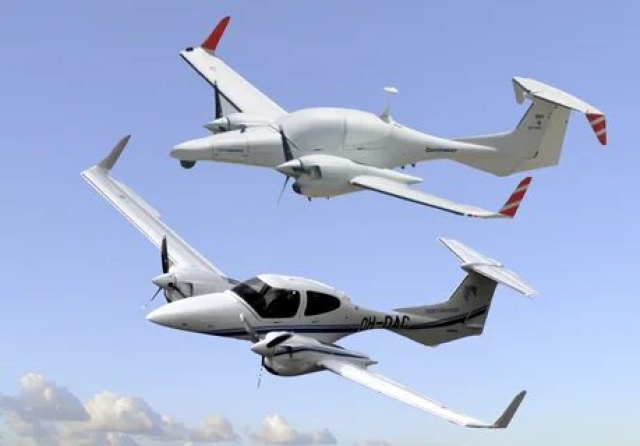military drone: (81, 134, 538, 428), (168, 16, 606, 218)
